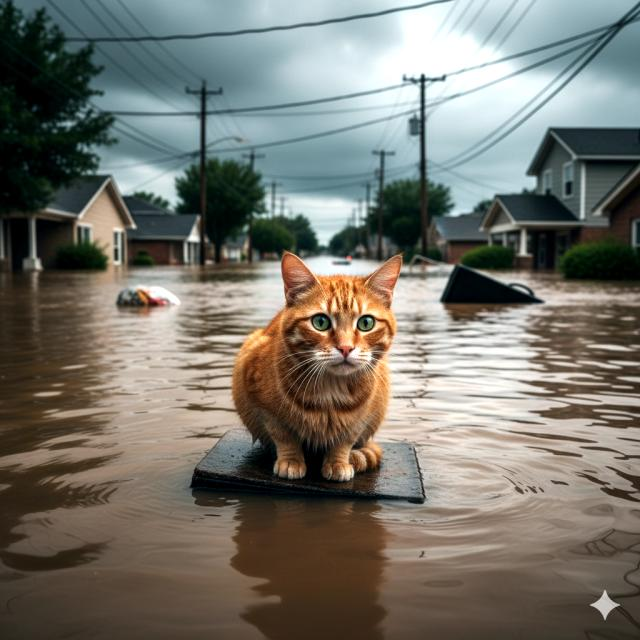cat: (212, 234, 427, 495)
